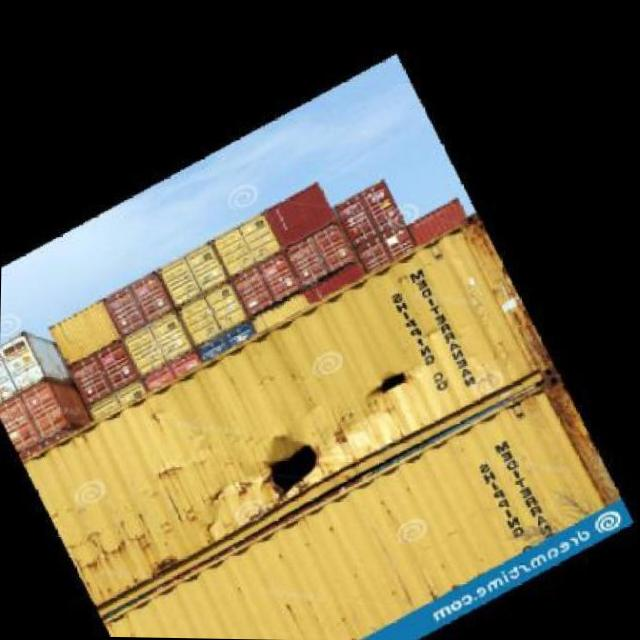Hole: (228, 432, 338, 513), (350, 358, 406, 416)
Rust: (86, 474, 237, 599)
